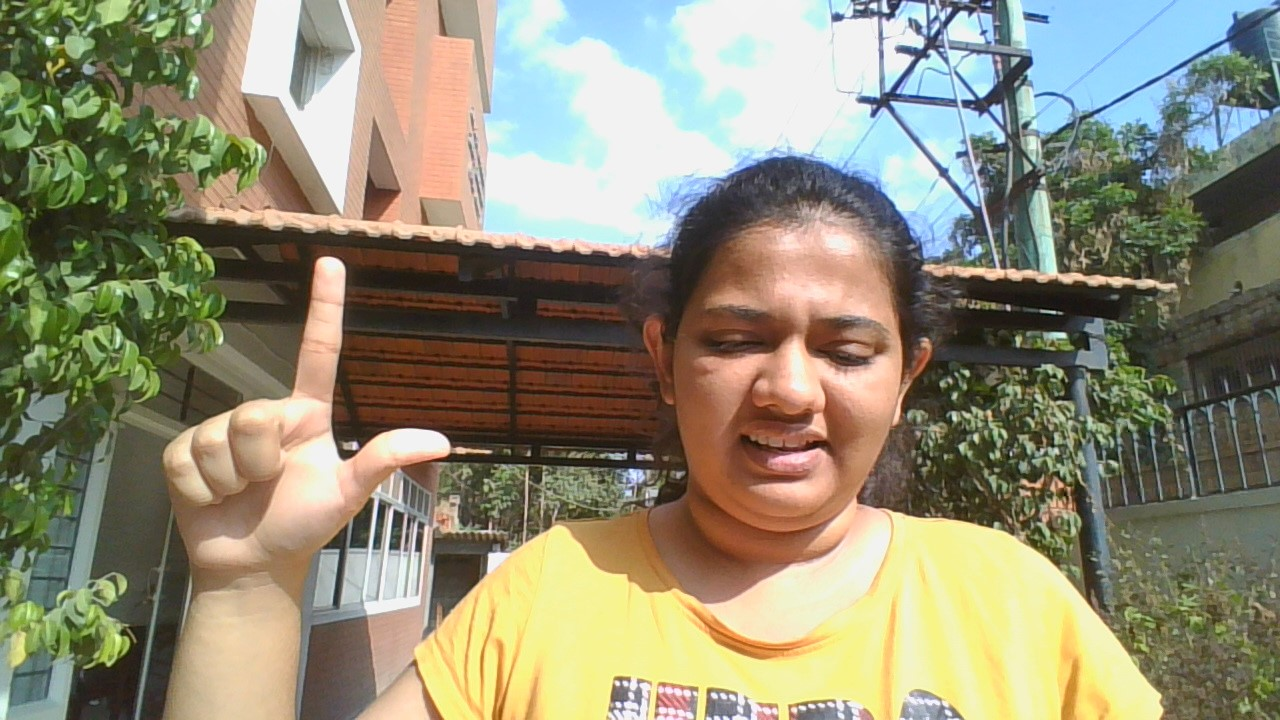l: (155, 256, 459, 601)
